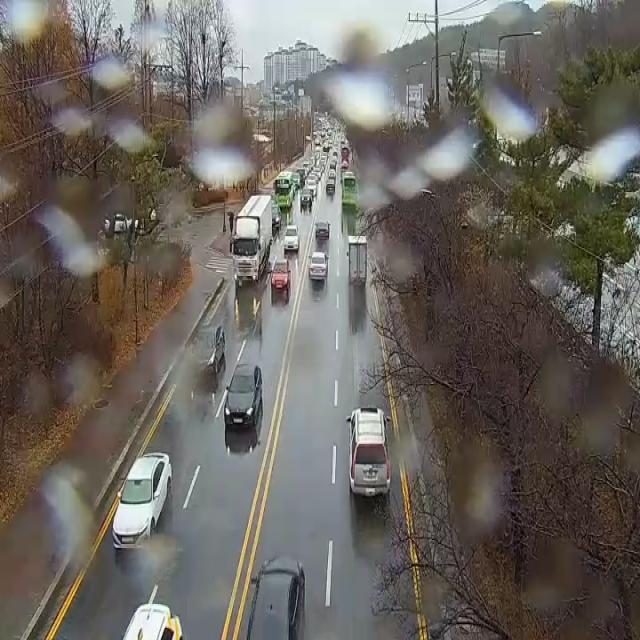Bus: (274, 171, 293, 207), (341, 170, 357, 204), (342, 148, 348, 163)
Car: (112, 452, 172, 548), (246, 558, 305, 640), (347, 407, 391, 497), (224, 364, 262, 426), (122, 604, 183, 640), (190, 325, 225, 374), (271, 260, 291, 290), (105, 214, 138, 232), (309, 252, 329, 280), (284, 225, 298, 251), (315, 222, 331, 238), (271, 205, 281, 229), (300, 189, 312, 205), (307, 180, 317, 197), (326, 179, 335, 195), (296, 169, 305, 185), (293, 172, 300, 189), (328, 170, 336, 178), (330, 162, 336, 171), (342, 161, 348, 169), (305, 169, 307, 179)
Truck: (230, 196, 272, 280)
